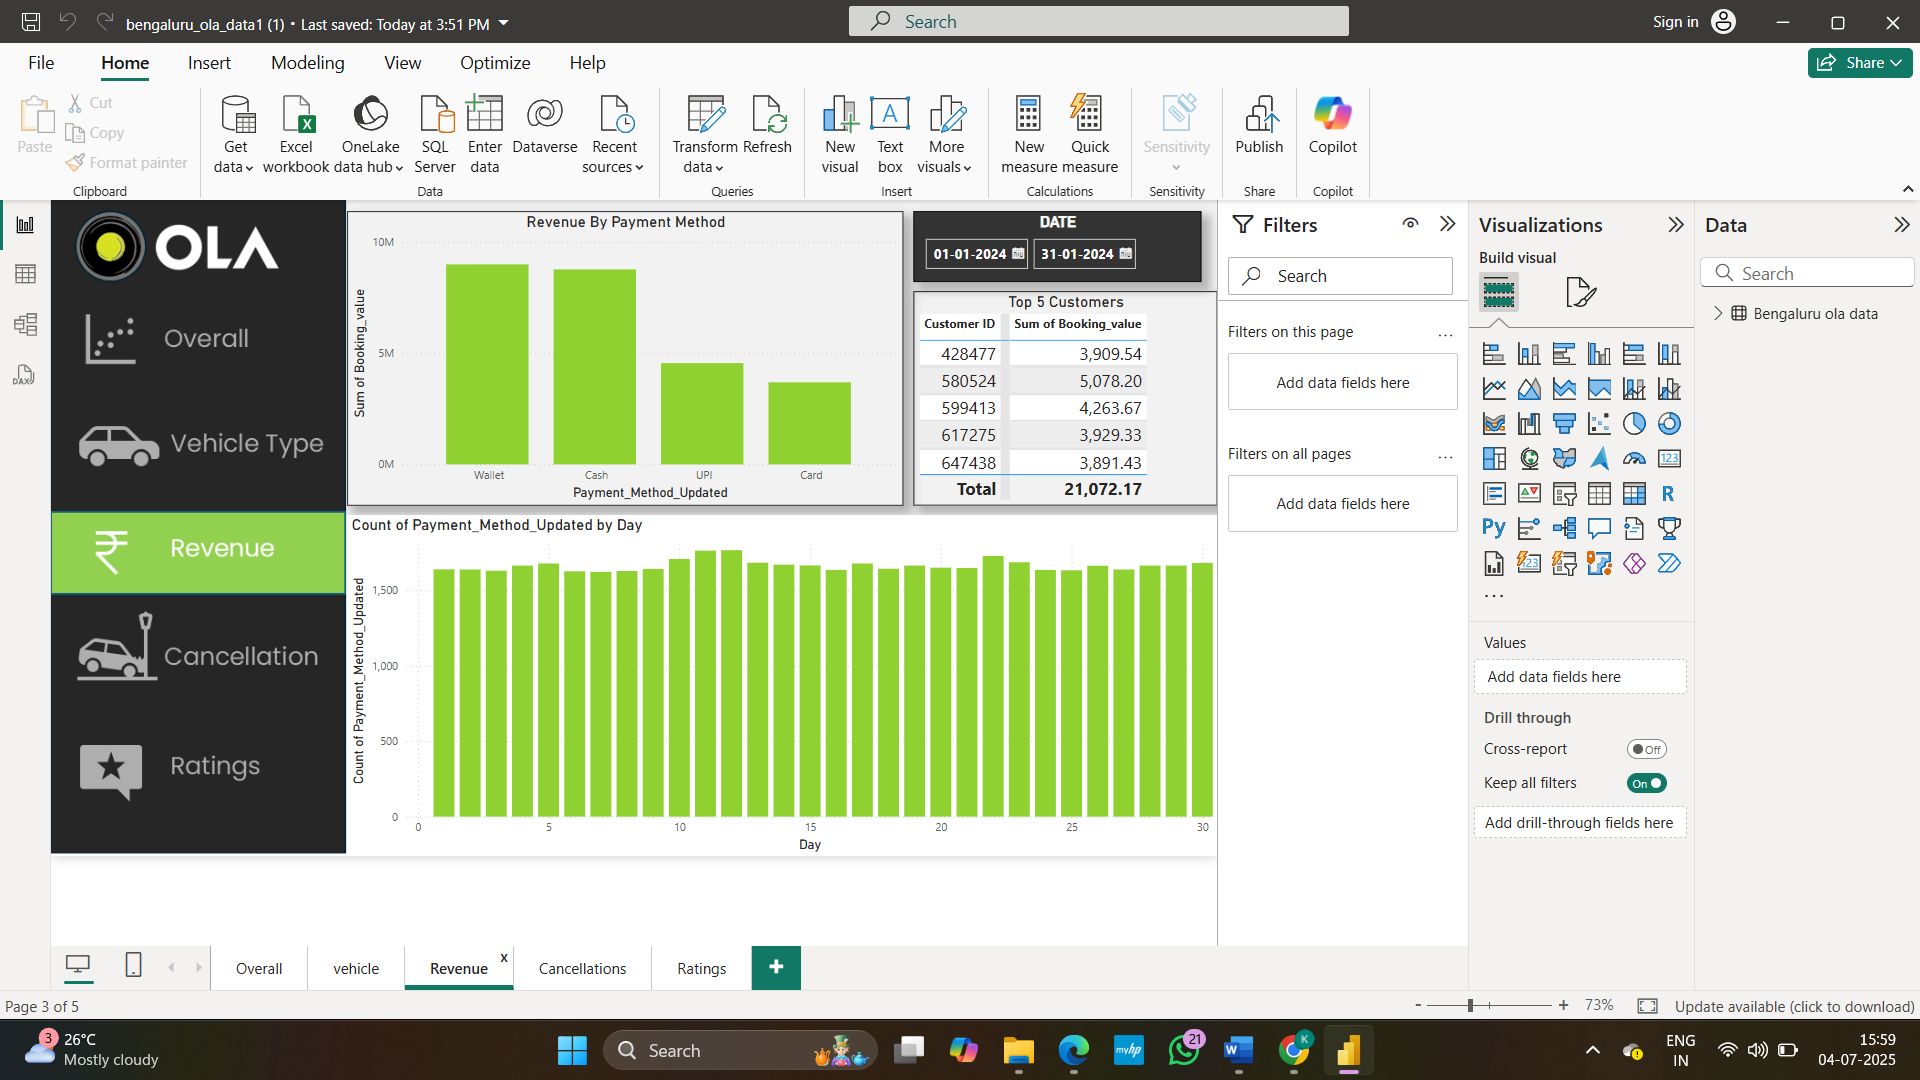

The page's visual inventory and layout, read from the dashboard file:
{"tool":"powerbi","page":{"name":"Revenue","canvas":[1280,720],"ordinal":2},"visuals":[{"type":"actionButton","box":[0,446,323.8,81],"z":0},{"type":"actionButton","box":[0,583.2,323.8,81],"z":1000},{"type":"actionButton","box":[0,229.2,323.8,81],"z":2000},{"type":"actionButton","box":[0,115.3,323.8,81],"z":3000},{"type":"columnChart","title":"Revenue By Payment Method","fields":{"Y":["Sum(Bengaluru ola data.Booking_value)"],"Category":["Bengaluru ola data.Payment_Method_Updated"]},"box":[324.5,11.9,610.4,323.1],"z":4000},{"type":"tableEx","title":"Top 5 Customers","fields":{"Values":["Bengaluru ola data.Customer ID","Sum(Bengaluru ola data.Booking_value)"]},"box":[946.8,99.7,333.5,235.2],"z":5000},{"type":"columnChart","fields":{"Category":["Bengaluru ola data.Date.Variation.Date Hierarchy.Day"],"Y":["CountNonNull(Bengaluru ola data.Payment_Method_Updated)"]},"box":[324.5,345.4,955.8,375.2],"z":6000},{"type":"slicer","title":"DATE","fields":{"Values":["Bengaluru ola data.Date"]},"box":[946.8,11.9,315.6,77.4],"z":7000}]}

Visuals, with their boxes on the page's 1280x720 design canvas (x1, y1, x2, y2). These are canvas units, not pixel positions in the 1920x1080 screenshot, which may show the page scaled, cropped or inside an application window:
actionButton: 0:446:324:527
actionButton: 0:583:324:664
actionButton: 0:229:324:310
actionButton: 0:115:324:196
"Revenue By Payment Method" columnChart: 324:12:935:335
"Top 5 Customers" tableEx: 947:100:1280:335
columnChart - Bengaluru ola data.Date.Variation.Date Hierarchy.Day x CountNonNull(Bengaluru ola data.Payment_Method_Updated): 324:345:1280:721
"DATE" slicer: 947:12:1262:89
